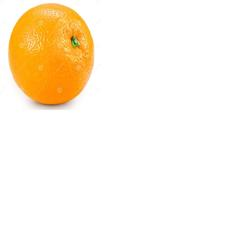orange: (0, 0, 102, 108)
